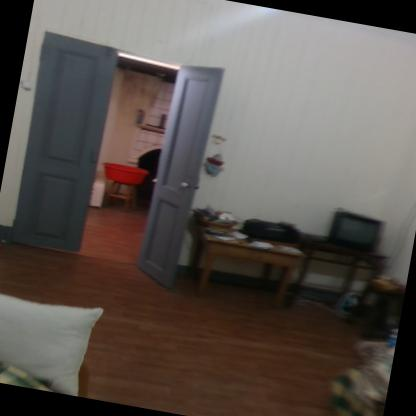open: (0, 21, 236, 300)
